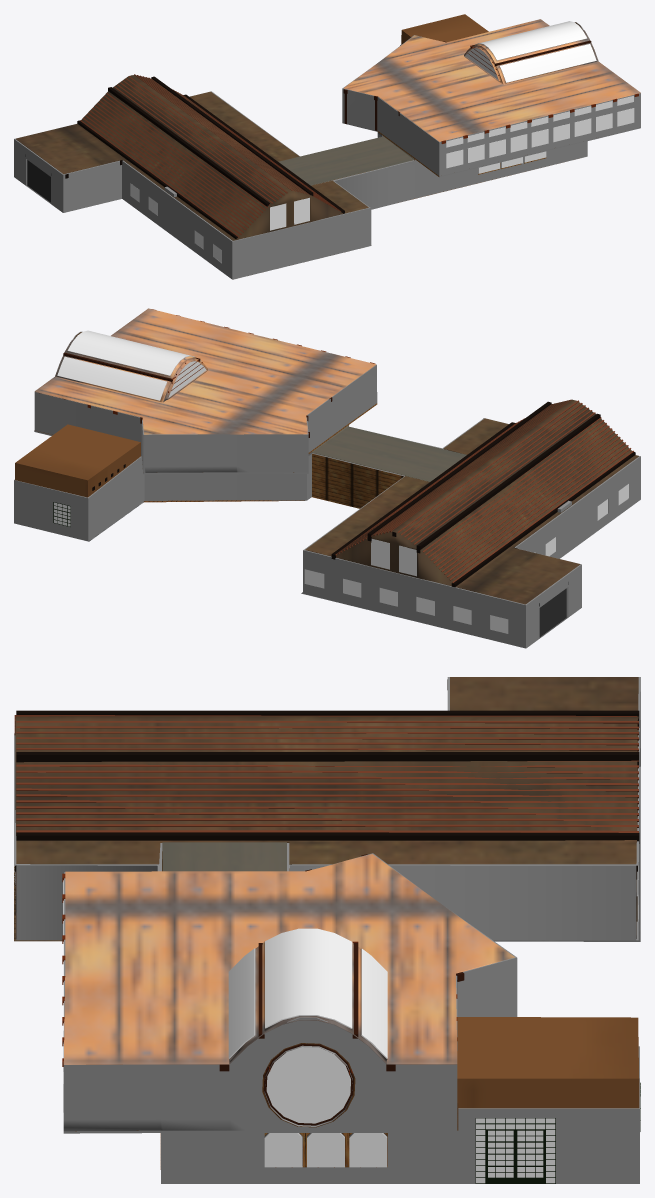
File: SantasHouse.FBX
The picture shows the model from 3 angles, top to bottom: view 1: azimuth 30°, elevation 25°; view 2: azimuth 150°, elevation 25°; view 3: azimuth 270°, elevation 25°; orthographic projection. The views are drawn at different scales.
Visible parts, largest first — view 1: Celings, walls, Workshop supports, Windows, UpstairsWalls, DenSuports, Garadge Door; view 2: Celings, walls, Workshop supports, UpstairsWalls, Windows, Garadge Door, DenSuports, floor; view 3: Celings, Workshop supports, walls, UpstairsWalls, Windows, DenSuports, Kitchen door Frame, floor.
Boxes of the visible parts, x1,y1,x2,y2 form: Celings: (16,14,640,240); walls: (14,45,640,279); Workshop supports: (65,74,344,239); Windows: (130,21,634,262); UpstairsWalls: (342,22,640,175); DenSuports: (343,40,638,172); Garadge Door: (25,154,51,202); Celings: (15,308,638,604); walls: (14,403,640,648); Workshop supports: (331,399,635,588); UpstairsWalls: (34,331,377,472); Windows: (54,330,628,633); Garadge Door: (539,582,568,636); DenSuports: (39,309,375,437); floor: (89,497,567,638); Celings: (15,677,639,1108); Workshop supports: (14,679,639,871); walls: (14,677,640,1183); UpstairsWalls: (63,853,517,1131); Windows: (63,730,640,1183); DenSuports: (62,854,464,1167); Kitchen door Frame: (475,1082,640,1183); floor: (14,795,640,1169).
Size of the model in its own units: 2821 by 1623 by 565.
